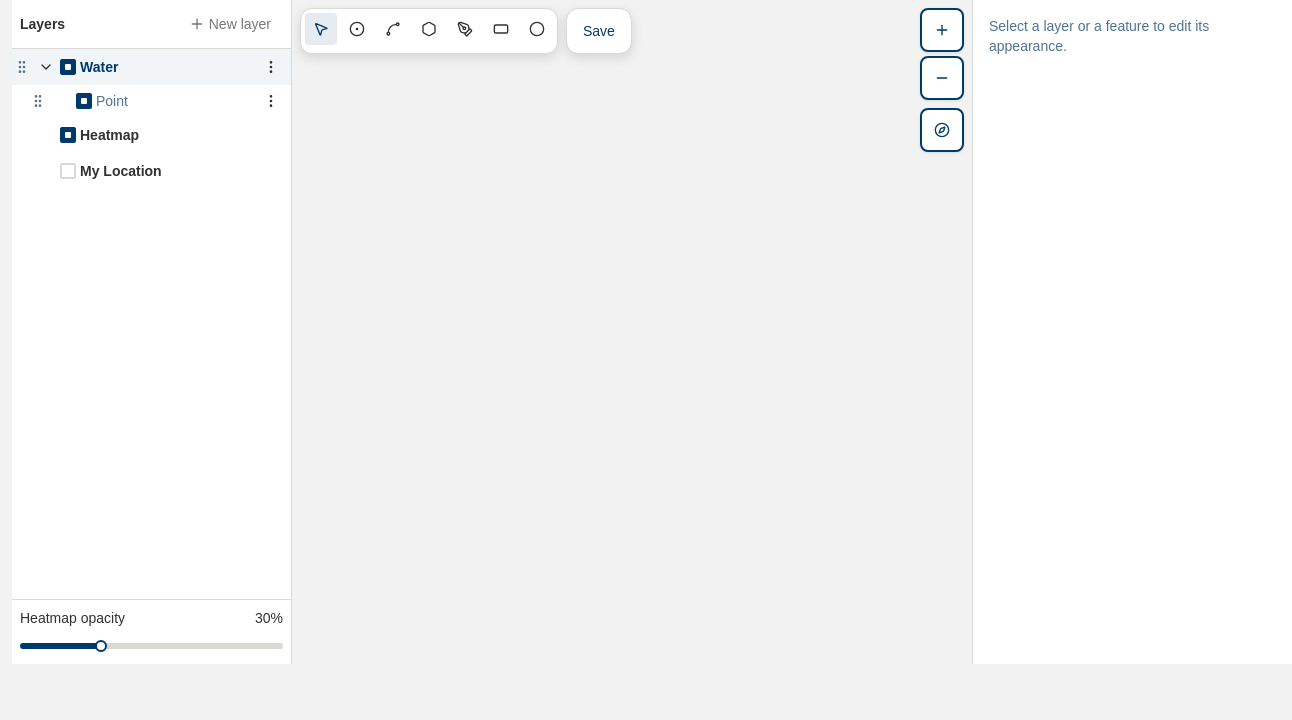
WorkspacePage › selecting a membership from the tree opens the style editor panel on desktop
Click the button "Point": (176, 101) [96,91,255,111]
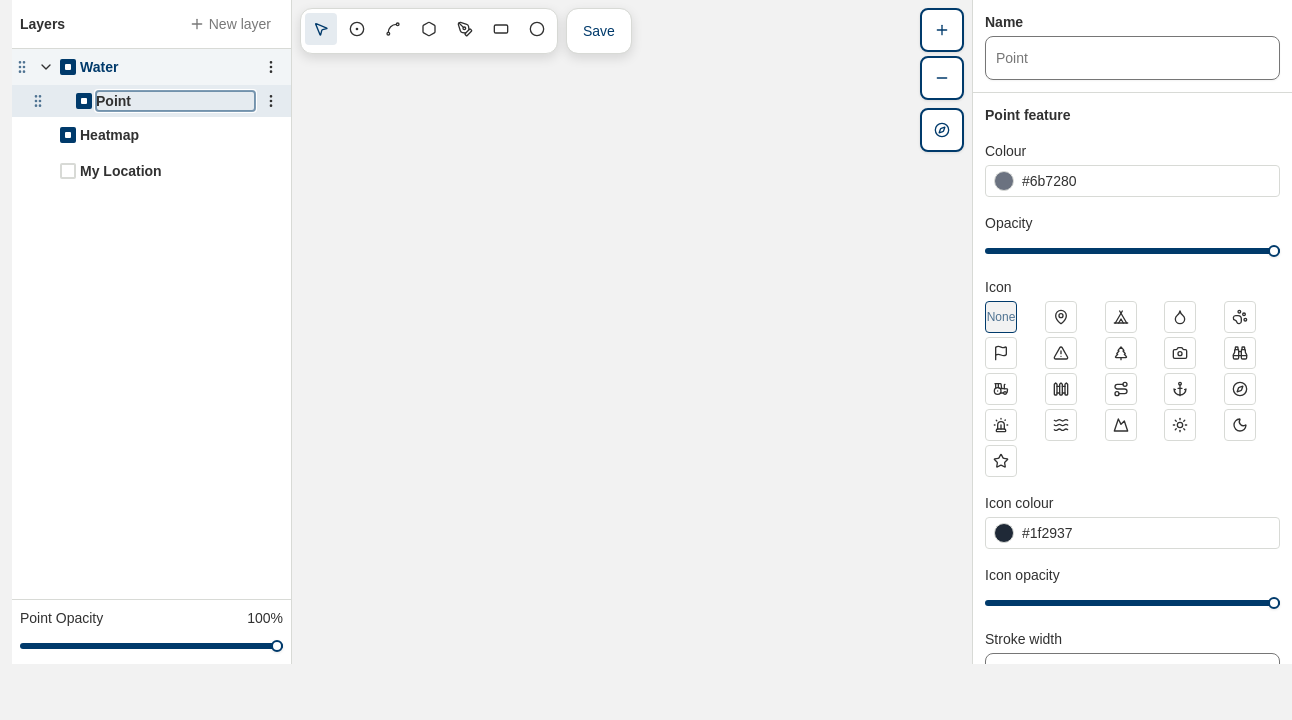
Result: the text "Point feature" is shown at [985,107,1071,123]
